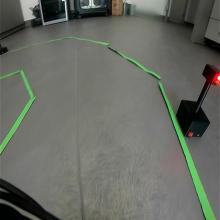red: (201, 63, 220, 86)
